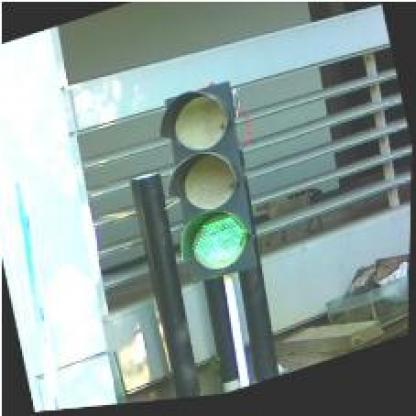green: (145, 80, 273, 294)
